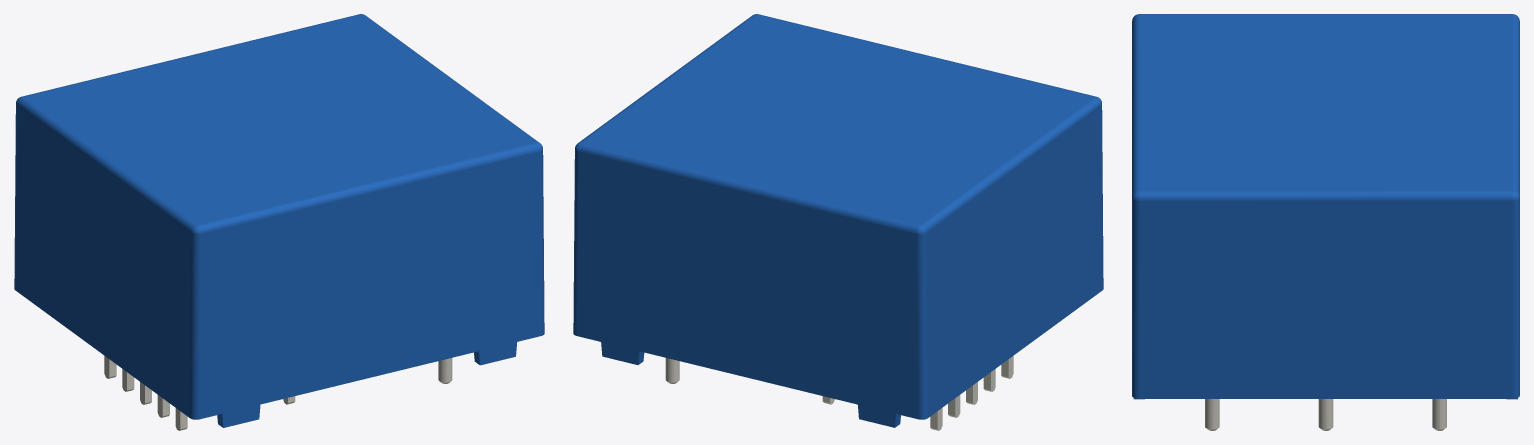
File: kc-lem_la25-np.glb
3 renders of one model, left to right at view 1: azimuth 30°, elevation 25°; view 2: azimuth 150°, elevation 25°; view 3: azimuth 270°, elevation 25°, orthographic. The views are drawn at different scales.
Visible parts, largest first — view 1: 0_0.16666666666666666_0.5_0, 0.6666666666666666_0.6666666666666666_0.5833333333333334_0.8; view 2: 0_0.16666666666666666_0.5_0, 0.6666666666666666_0.6666666666666666_0.5833333333333334_0.8; view 3: 0_0.16666666666666666_0.5_0, 0.6666666666666666_0.6666666666666666_0.5833333333333334_0.8.
Boxes of the visible parts, x1,y1,x2,y2 form: 0_0.16666666666666666_0.5_0: [14, 14, 544, 427]; 0.6666666666666666_0.6666666666666666_0.5833333333333334_0.8: [104, 356, 452, 430]; 0_0.16666666666666666_0.5_0: [573, 14, 1103, 427]; 0.6666666666666666_0.6666666666666666_0.5833333333333334_0.8: [665, 356, 1013, 430]; 0_0.16666666666666666_0.5_0: [1132, 14, 1519, 399]; 0.6666666666666666_0.6666666666666666_0.5833333333333334_0.8: [1205, 399, 1446, 430].
Bounding box in the file's own units: 2.92 × 1.98 × 2.6.
